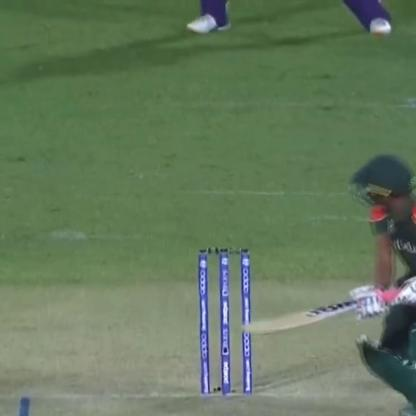bat: (244, 295, 371, 331)
